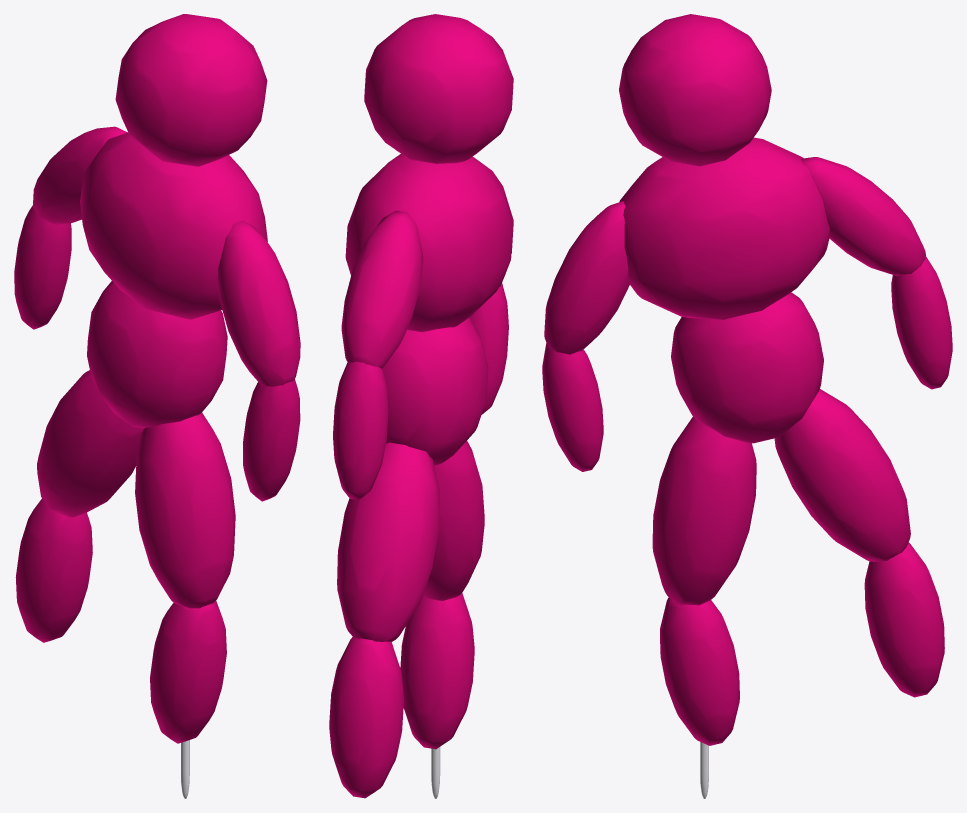
Rendered from balloon2.glb.
3 views of the same model, side by side, from view 1: azimuth 30°, elevation 25°; view 2: azimuth 150°, elevation 25°; view 3: azimuth 270°, elevation 25° (orthographic).
Visible parts, largest first — view 1: Mball.001; view 2: Mball.001; view 3: Mball.001.
Boxes of the visible parts, left/top/right/bottom form: Mball.001: left=14, top=14, right=300, bottom=798; Mball.001: left=329, top=14, right=513, bottom=798; Mball.001: left=542, top=14, right=952, bottom=798.
Bounding box in the file's own units: 2.07 × 10.97 × 5.25.
